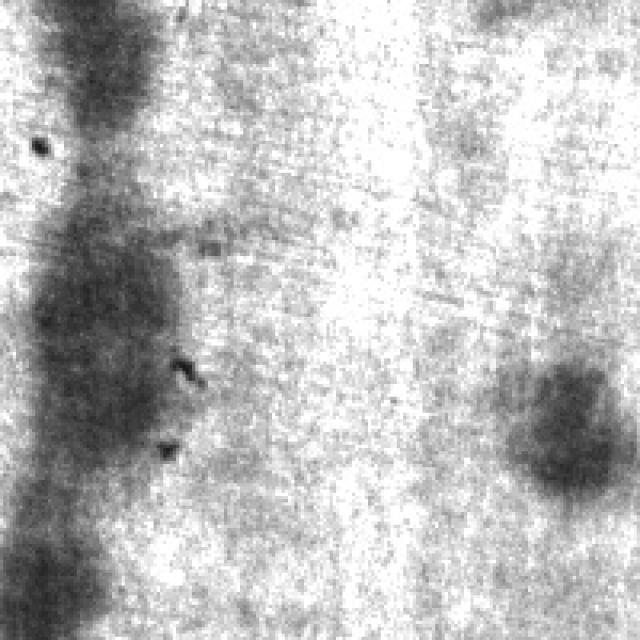patches: (32, 157, 186, 467), (506, 355, 634, 506), (35, 0, 176, 134), (6, 480, 125, 634)
